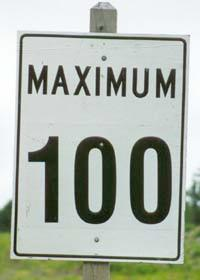speed limit sign: (11, 30, 187, 265)
